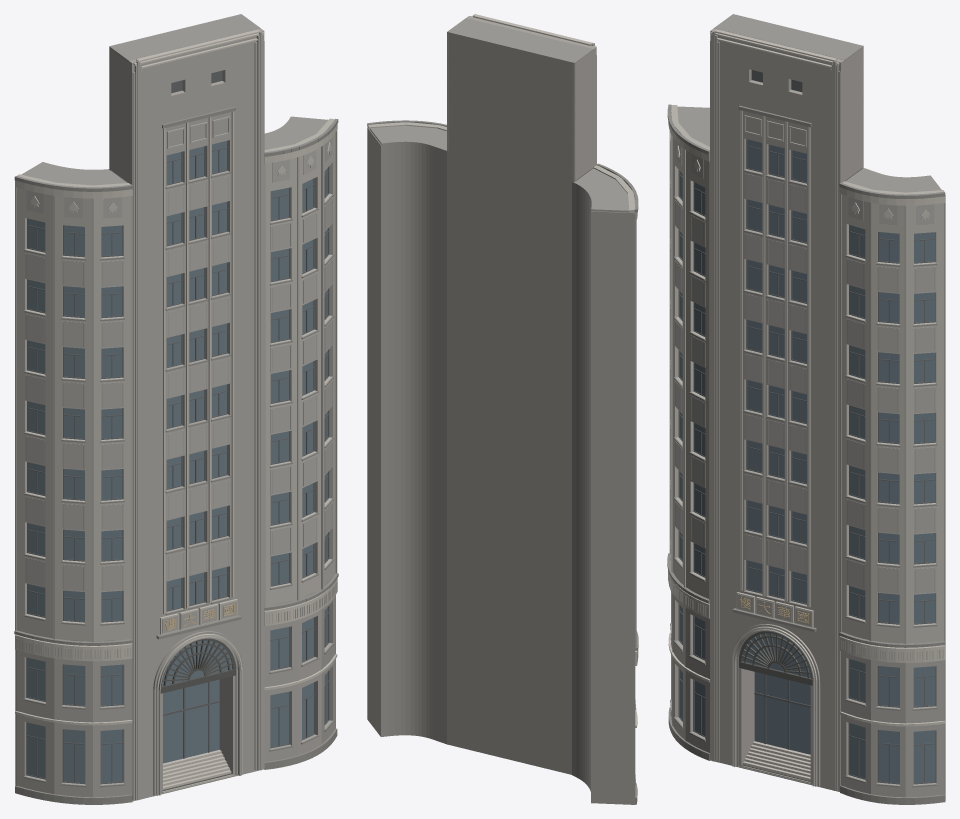
File: huangpu-guohua-bank-raw.glb
3 renders of one model, left to right at view 1: azimuth 30°, elevation 25°; view 2: azimuth 150°, elevation 25°; view 3: azimuth 330°, elevation 25°, orthographic. The views are drawn at different scales.
Visible parts, largest first — view 1: 国华银行大楼（东南转角与弧形窗墙）; view 2: 国华银行大楼（东南转角与弧形窗墙）; view 3: 国华银行大楼（东南转角与弧形窗墙）.
Part boxes in pixels (x1,y1,x2,y2): 国华银行大楼（东南转角与弧形窗墙）: (14,14,338,804); 国华银行大楼（东南转角与弧形窗墙）: (367,14,638,804); 国华银行大楼（东南转角与弧形窗墙）: (667,14,945,804).
Bounding box in the file's own units: 20.9 × 48.89 × 6.14.
